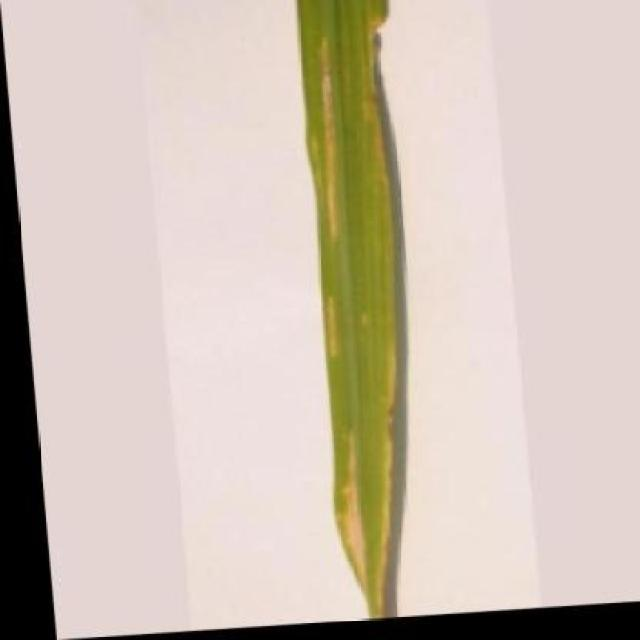Brown_Spot: (280, 0, 442, 625)
